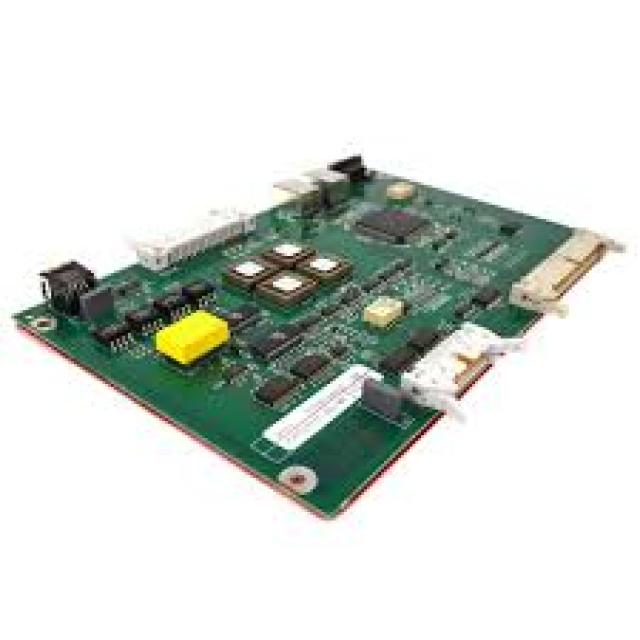pcb: (11, 148, 623, 520), (131, 202, 256, 270), (154, 307, 230, 367), (37, 256, 94, 316)
